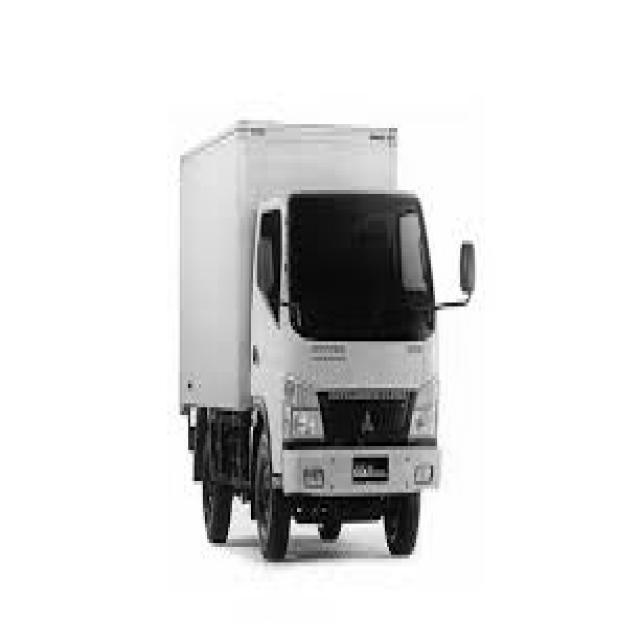truck: (236, 167, 481, 566)
